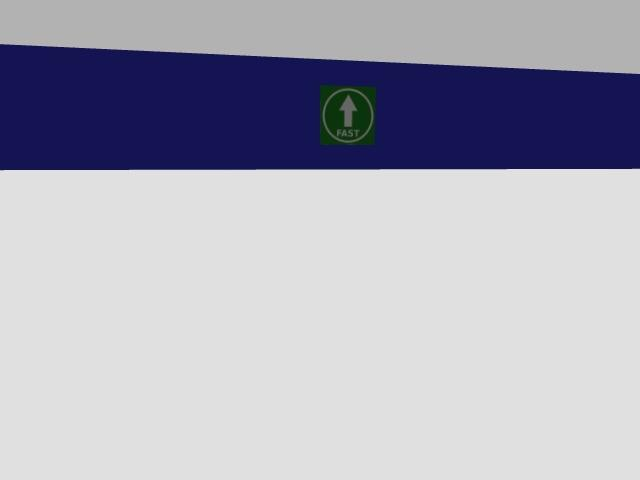fast: (321, 86, 375, 144)
